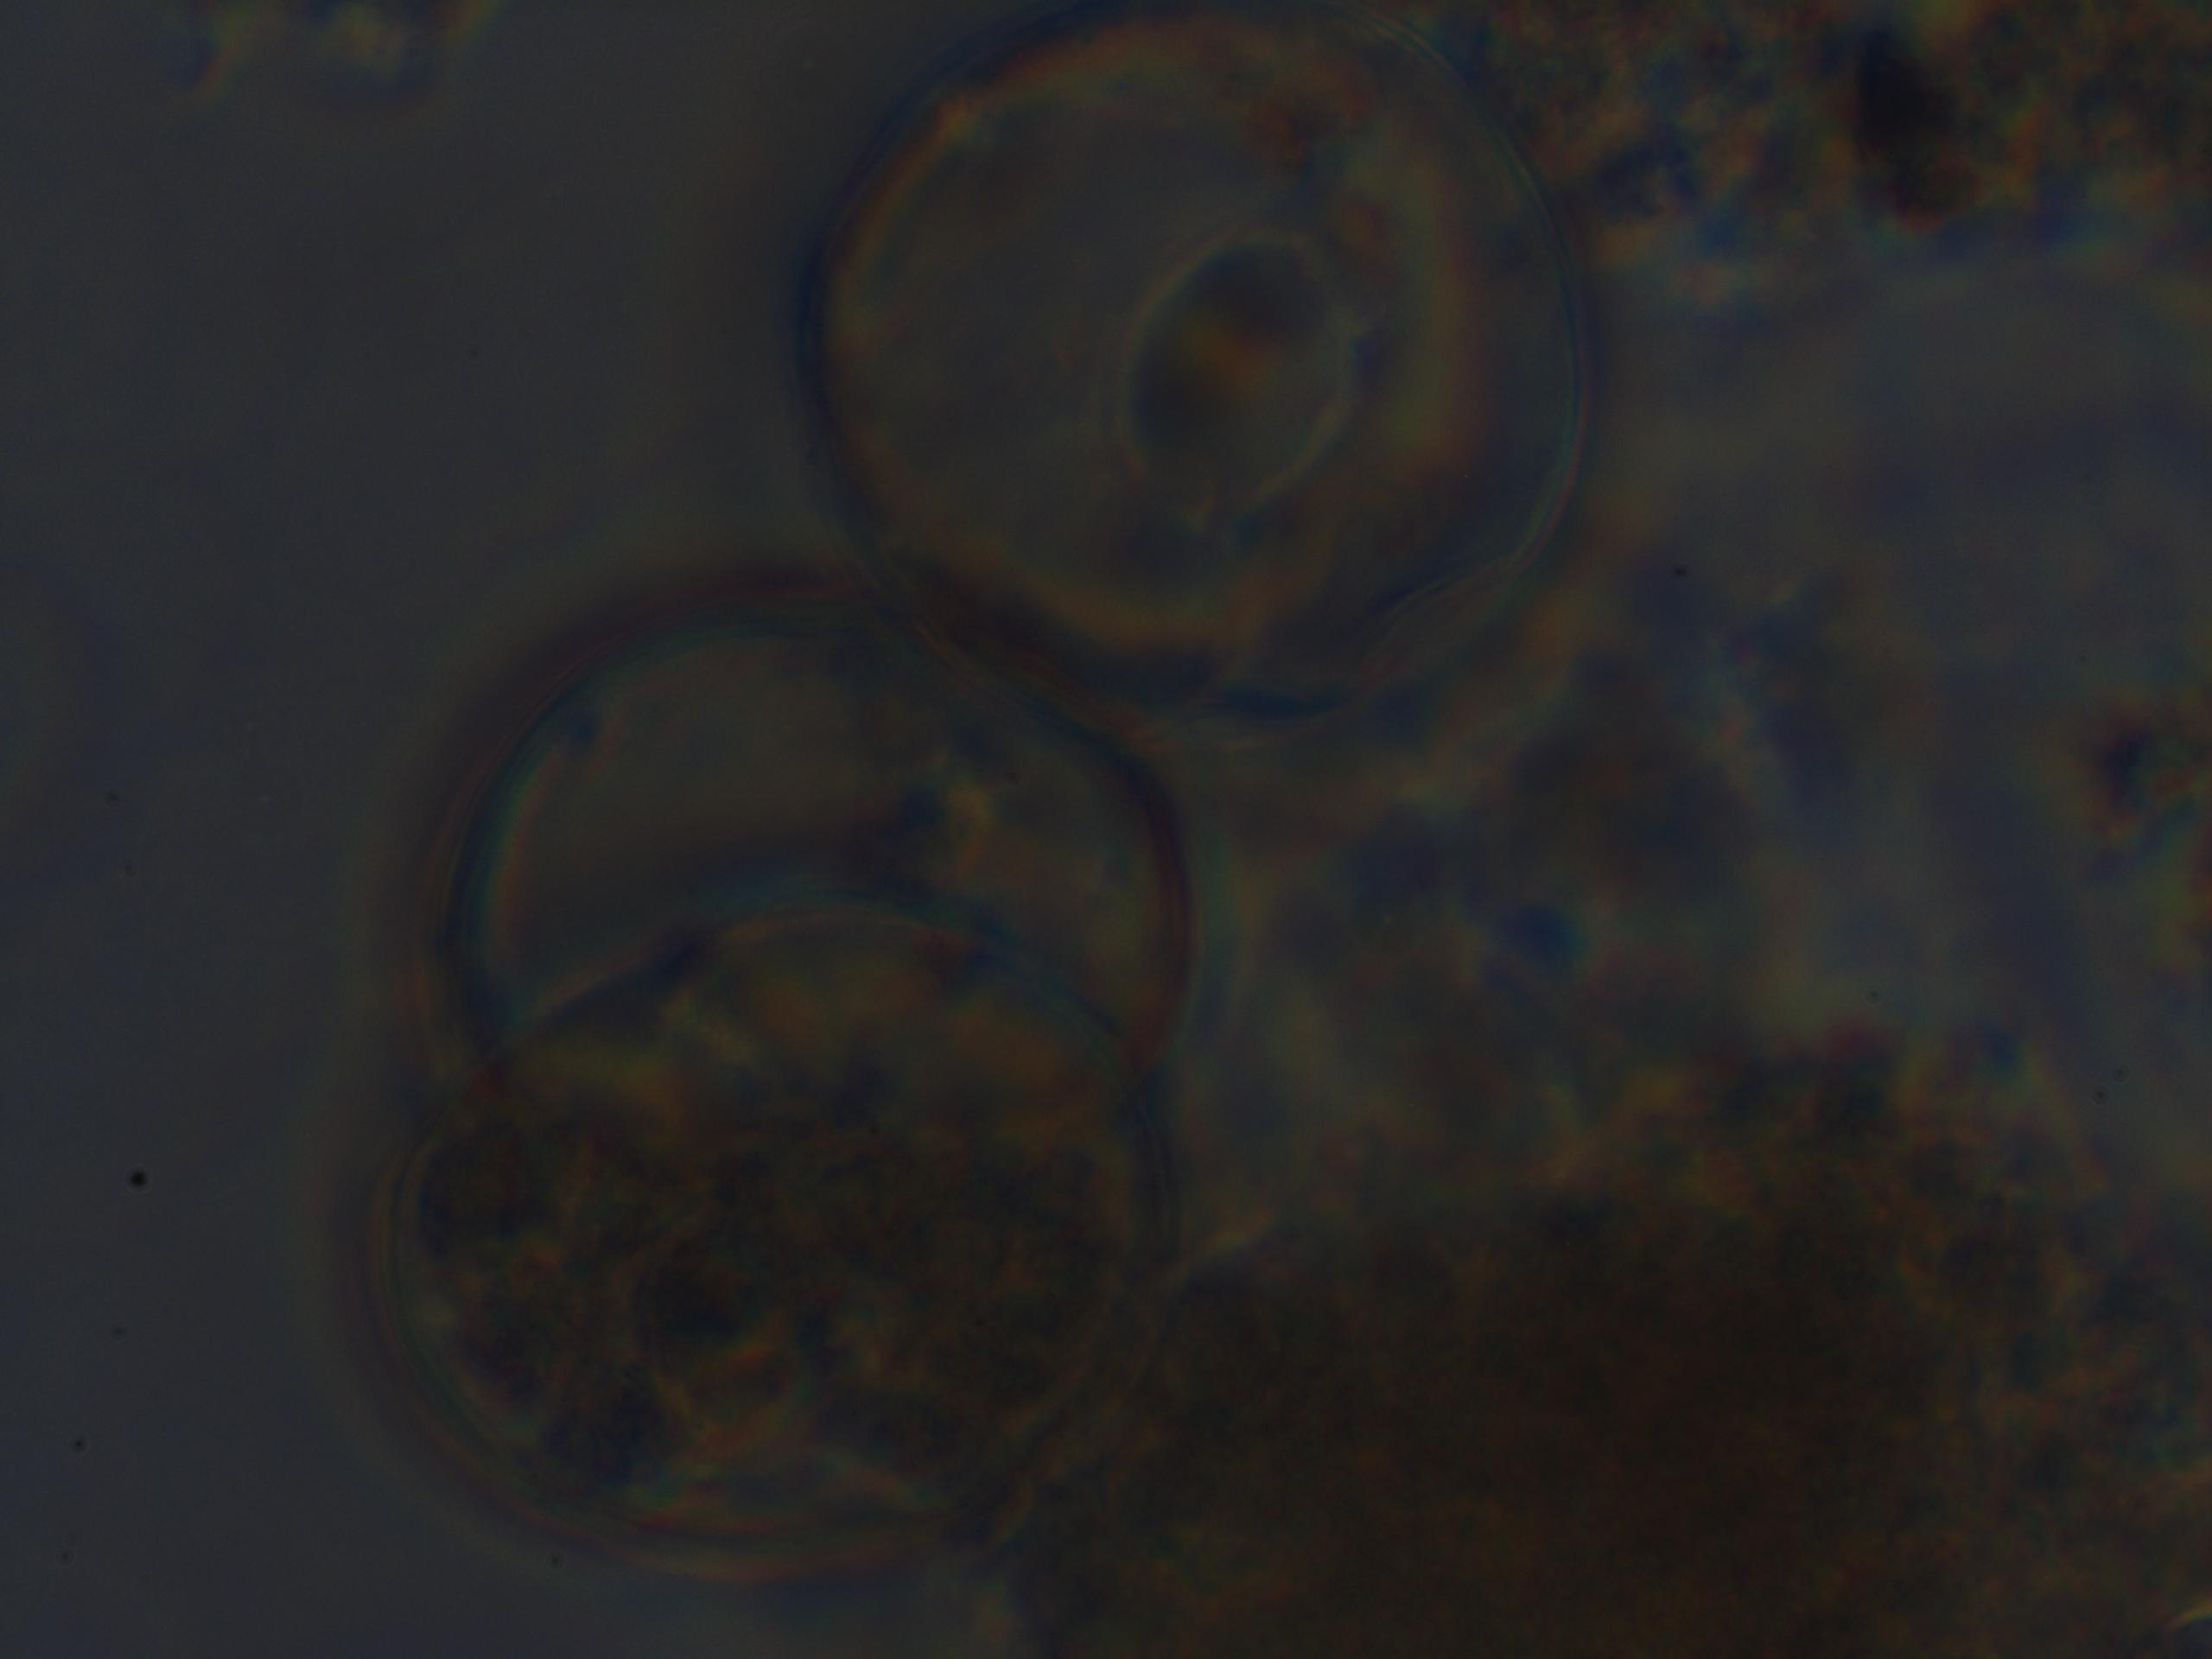protozoa: (775, 5, 1620, 725), (373, 897, 1174, 1612), (395, 575, 1205, 1080)
